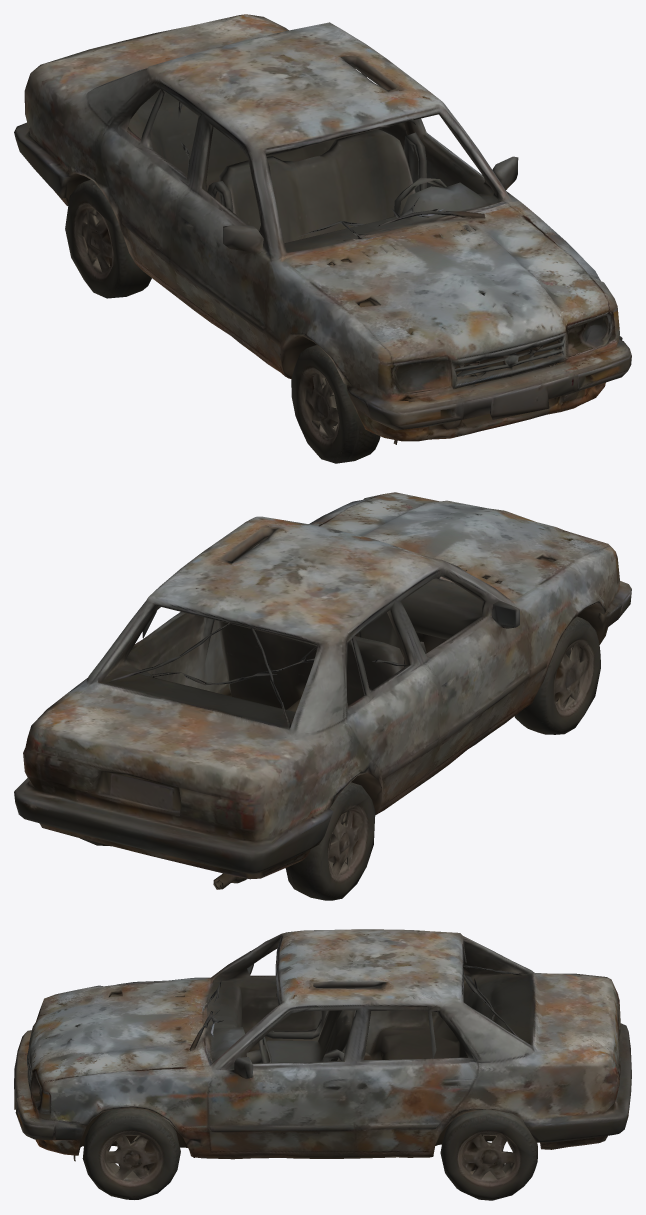
File: sedan_car.glb
3 views of the same model, one above another, from view 1: azimuth 30°, elevation 25°; view 2: azimuth 150°, elevation 25°; view 3: azimuth 270°, elevation 25° (orthographic). The views are drawn at different scales.
Visible parts, largest first — view 1: tripo_node_63d1f5f2-ec6b-4af8-9cff-446763b03d2c; view 2: tripo_node_63d1f5f2-ec6b-4af8-9cff-446763b03d2c; view 3: tripo_node_63d1f5f2-ec6b-4af8-9cff-446763b03d2c.
Boxes of the visible parts, <box> form: tripo_node_63d1f5f2-ec6b-4af8-9cff-446763b03d2c: <box>14,14,631,463</box>; tripo_node_63d1f5f2-ec6b-4af8-9cff-446763b03d2c: <box>14,492,631,900</box>; tripo_node_63d1f5f2-ec6b-4af8-9cff-446763b03d2c: <box>14,929,631,1200</box>.
Bounding box in the file's own units: 0.4352 × 0.3478 × 1.
Materials: 1 (1 with a texture image).
